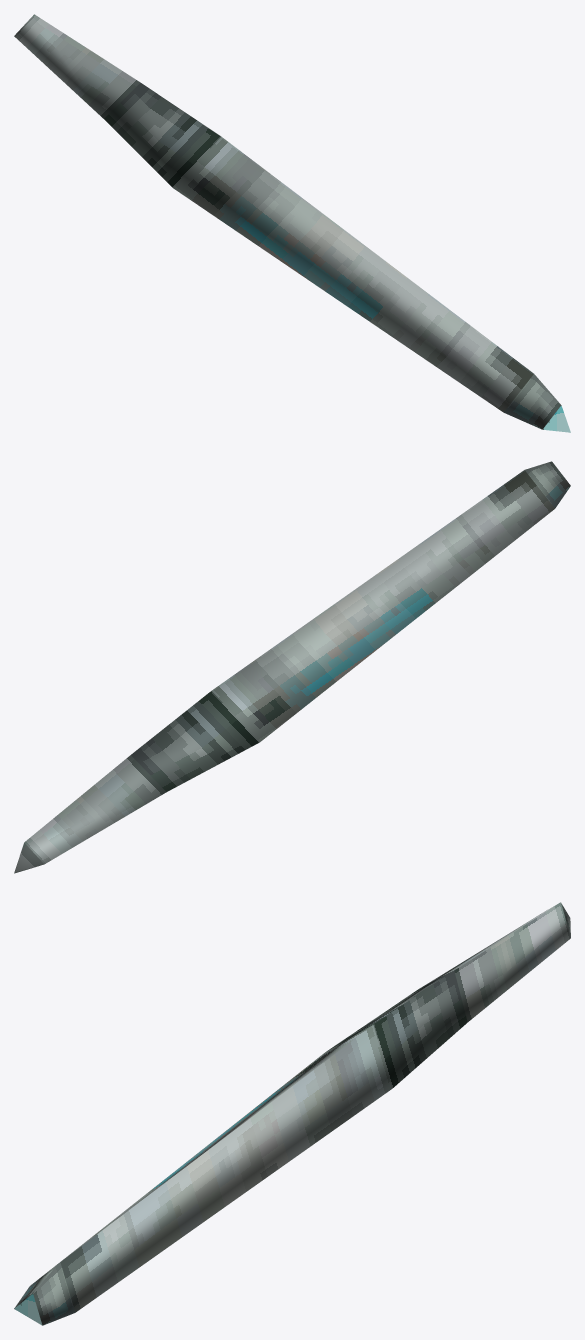
The model's file is xwing_weapon2_pos_s02_l3.fbx.
3 renders of one model, top to bottom at view 1: azimuth 30°, elevation 25°; view 2: azimuth 150°, elevation 25°; view 3: azimuth 330°, elevation 25°, orthographic.
Parts seen in each view (by area): view 1: mesh_node; view 2: mesh_node; view 3: mesh_node.
Boxes of the visible parts, bbox=[...] form: mesh_node: bbox=[14, 14, 570, 432]; mesh_node: bbox=[14, 461, 570, 873]; mesh_node: bbox=[14, 902, 570, 1325].
Bounding box in the file's own units: 0.1939 × 0.1632 × 2.67.
1 material, 1 textured.
